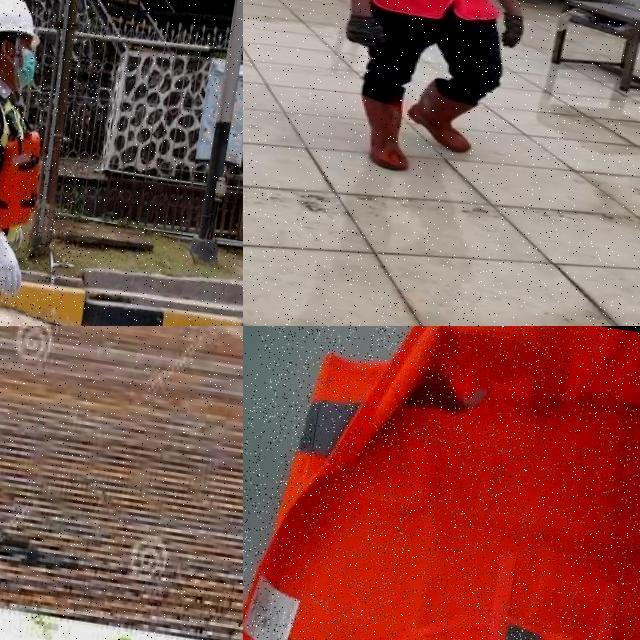boots: (405, 78, 482, 154), (350, 95, 420, 172)
helmet: (0, 0, 50, 51)
vest: (243, 326, 640, 640), (0, 83, 57, 247), (357, 0, 519, 29)
